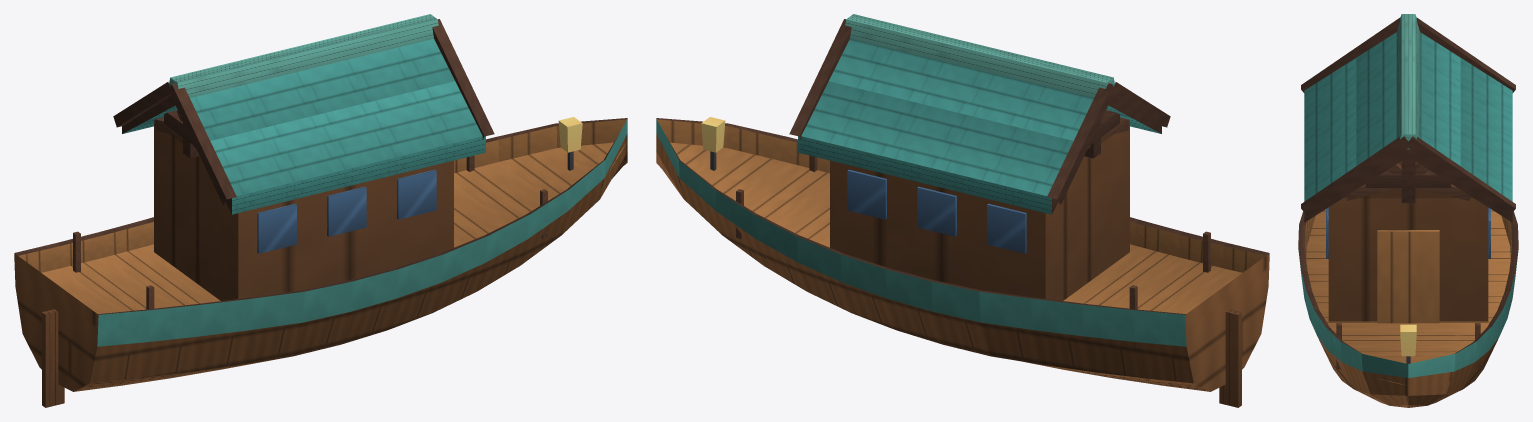
File: boat_ferry_01.glb
3 renders of one model, left to right at view 1: azimuth 30°, elevation 25°; view 2: azimuth 150°, elevation 25°; view 3: azimuth 270°, elevation 25°, orthographic. The views are drawn at different scales.
Visible parts, largest first — view 1: boat_ferry_01; view 2: boat_ferry_01; view 3: boat_ferry_01.
Boxes of the visible parts, left/top/right/bottom form: boat_ferry_01: left=14, top=14, right=627, bottom=407; boat_ferry_01: left=656, top=14, right=1269, bottom=407; boat_ferry_01: left=1298, top=14, right=1518, bottom=407.
Bounding box in the file's own units: 9.2 × 4.44 × 3.18.
Materials: 1 (1 with a texture image).
